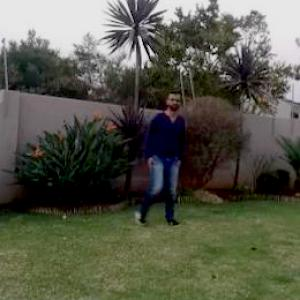follow: (146, 92, 182, 220)
